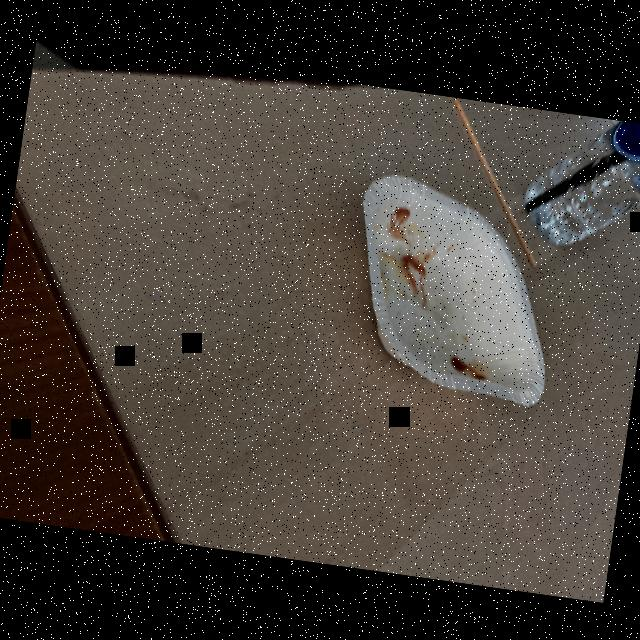cardboard_bowl: (314, 165, 580, 418)
stick: (427, 96, 568, 271)
